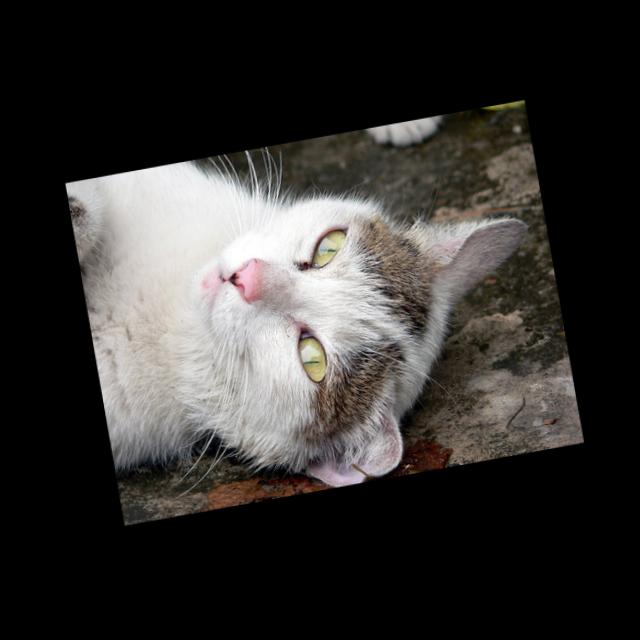animals: (228, 209, 565, 494)
